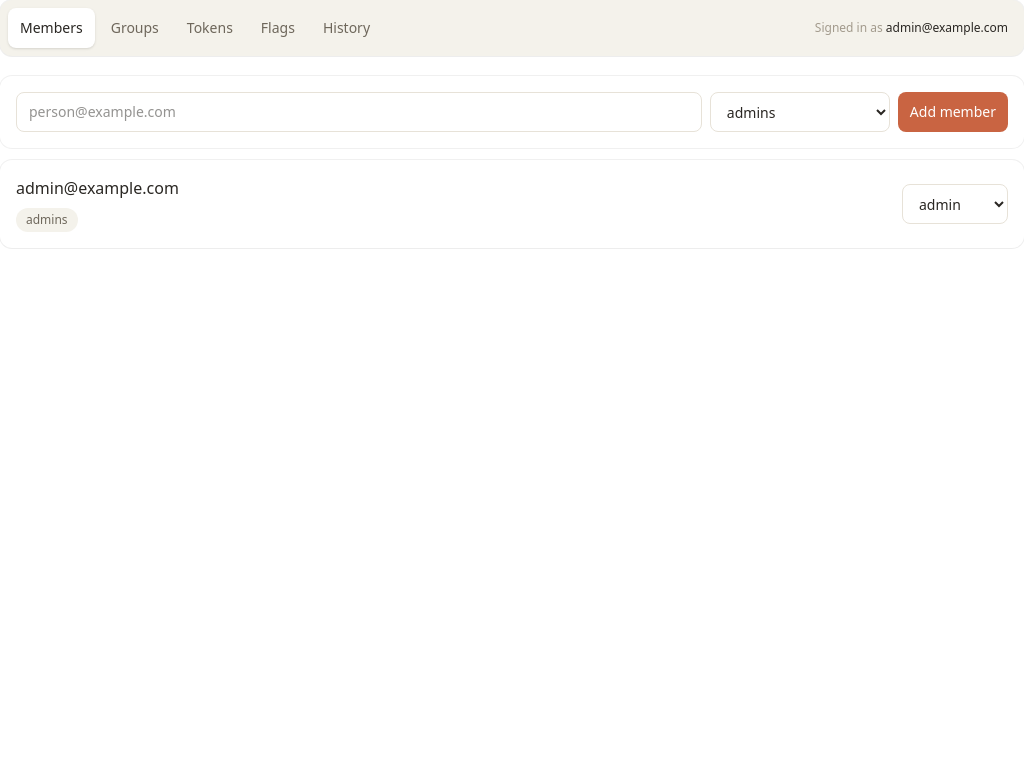
Test: AccessAdmin flags tab › keeps the pending state after a toggle, because only a restart clears it
Click the tab "flags": (278, 28) [249,8,307,48]
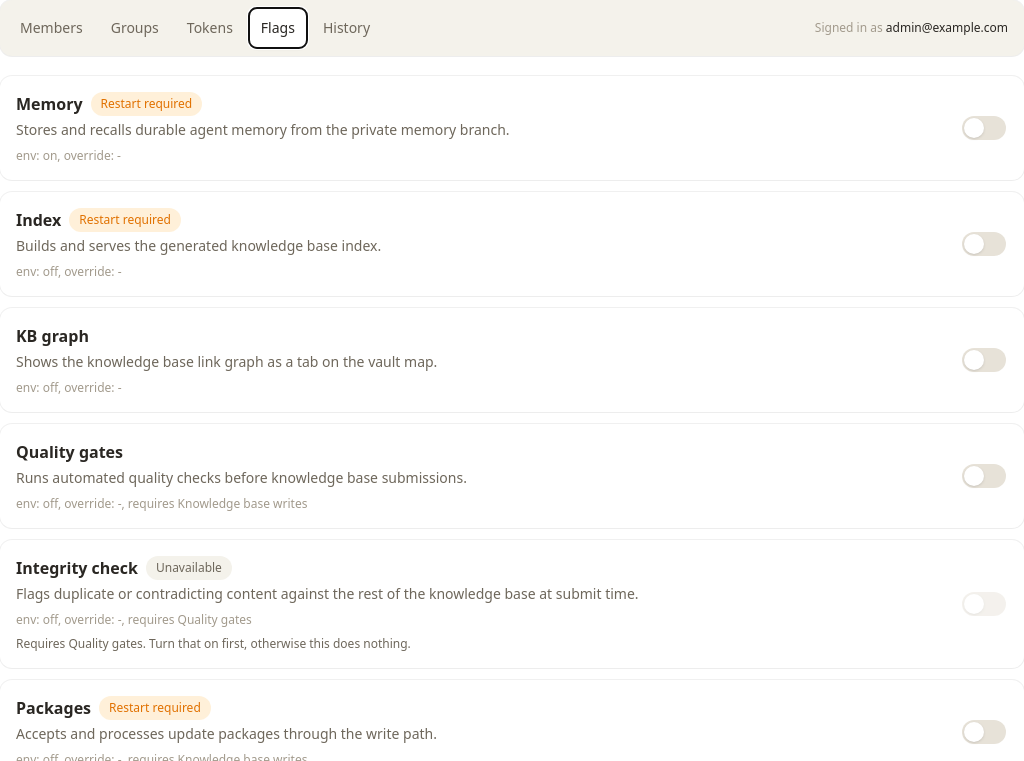
Click the switch named "Toggle Packages": (984, 732) [960,712,1008,752]
(page scrolled)
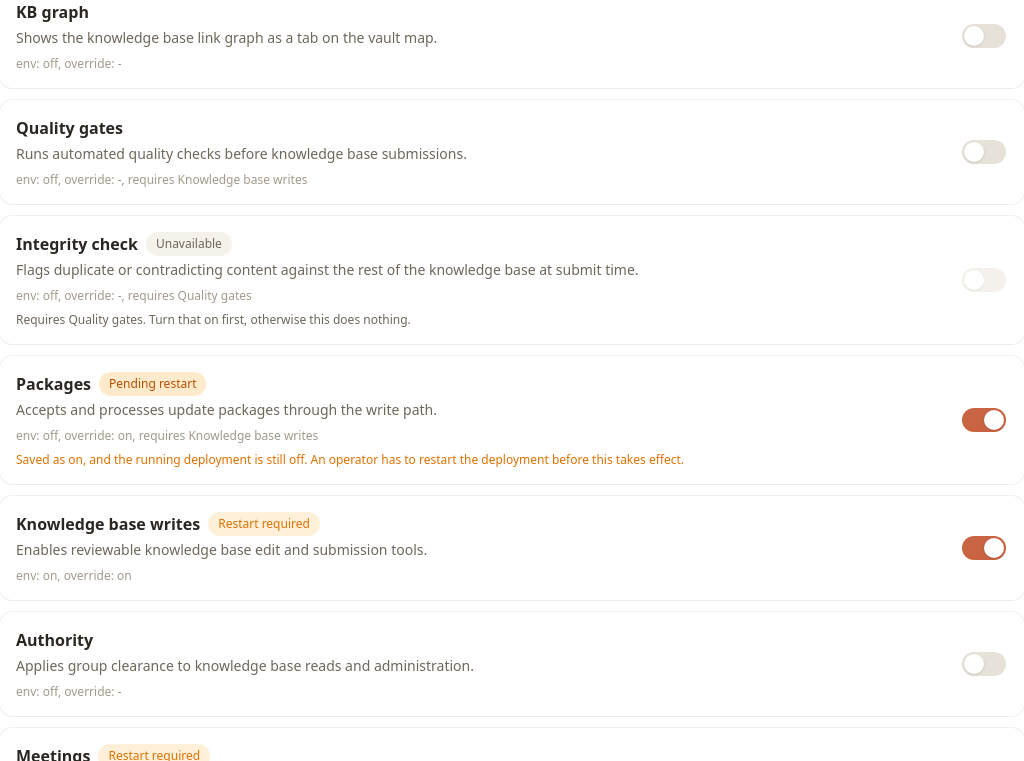
Check: the text "Pending restart" is shown, box [99,372,206,396]
